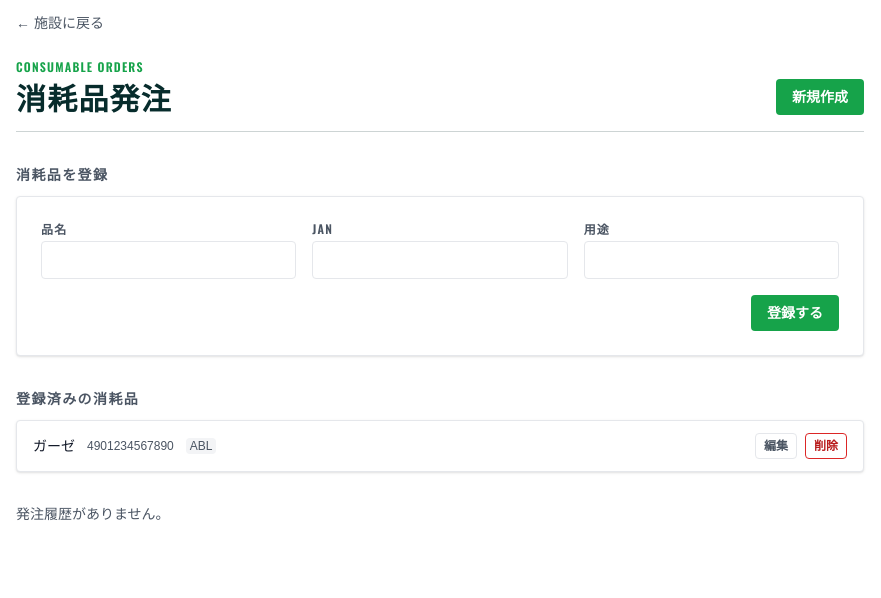
ConsumableOrdersPage › 直す・止める・消す道（2026-09-09） › サーバーが 409 で断ったら、その理由をそのまま見せる
Click the button "削除": {"x": 826, "y": 446} [805,433,847,459]
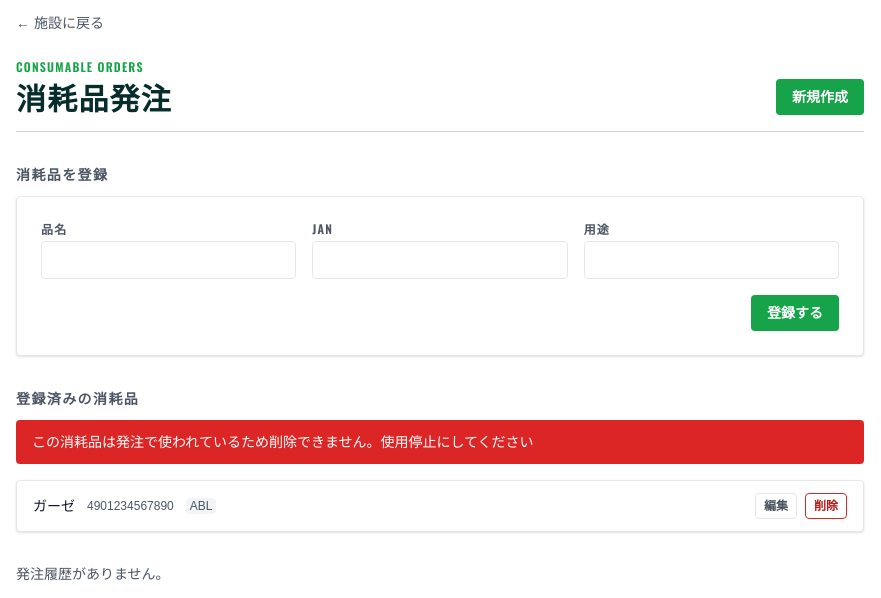
Now the text "この消耗品は発注で使われているため削除できません。使用停止にしてください" is shown, box [16,420,864,464]
